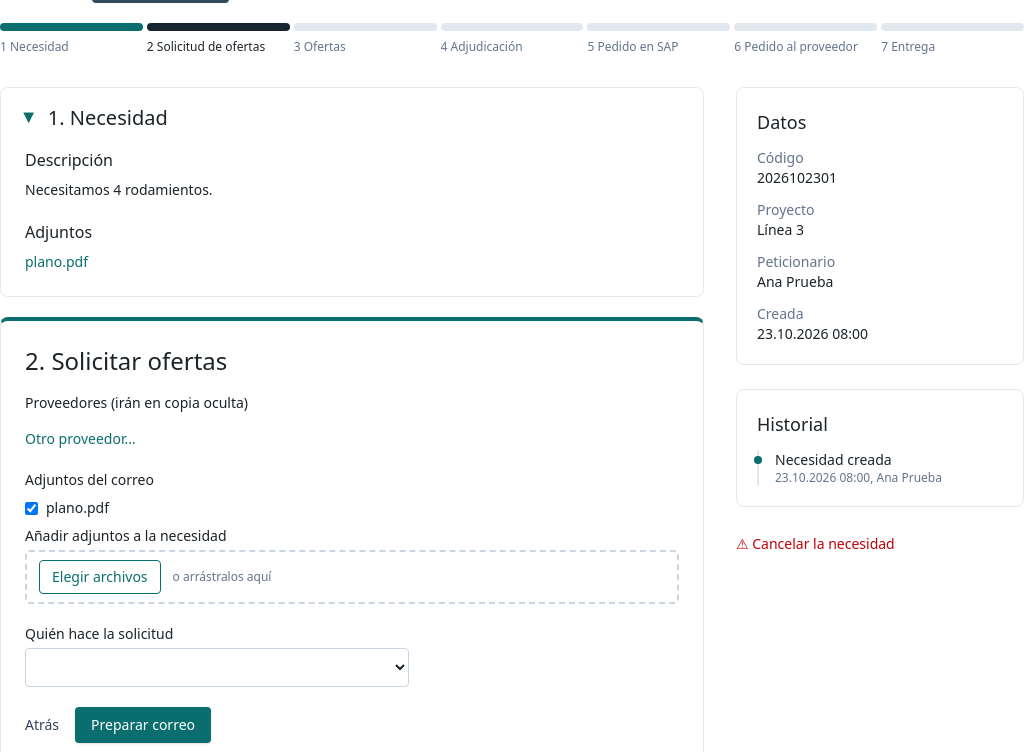
it: PaginaNecesidad › no prepara el correo sin proveedores
This screenshot has width=1024, height=752.
(page scrolled)
Click the button "Preparar correo" at [143, 725], box [75, 707, 211, 743]
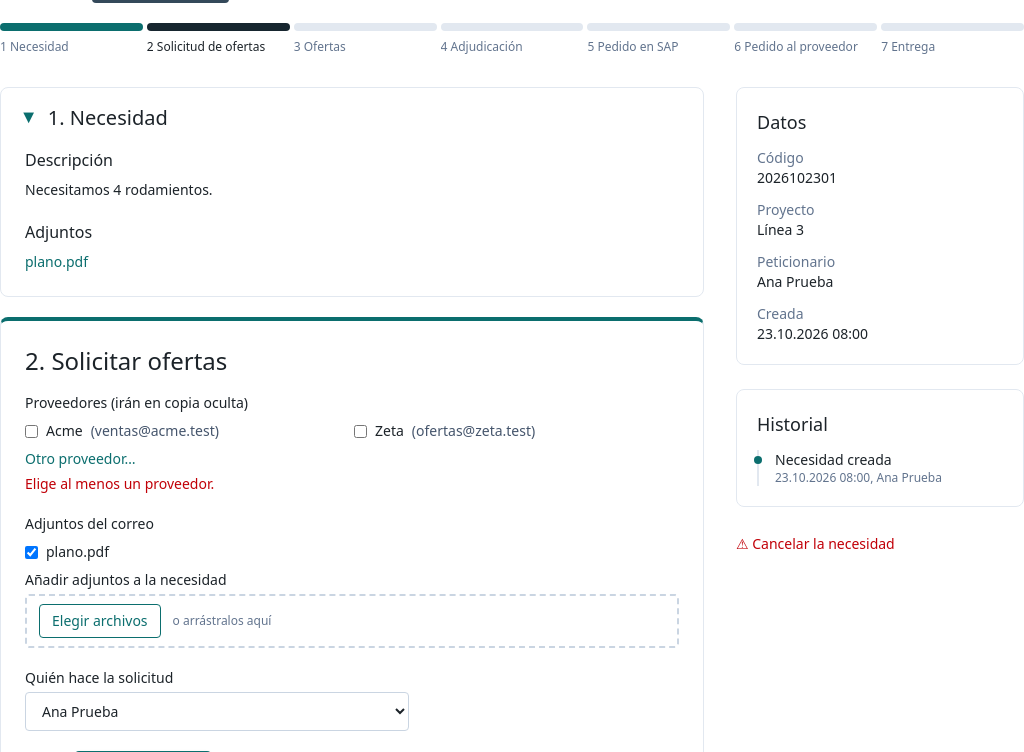
Check: the text "Elige al menos un proveedor." is shown, box [25, 474, 214, 493]
